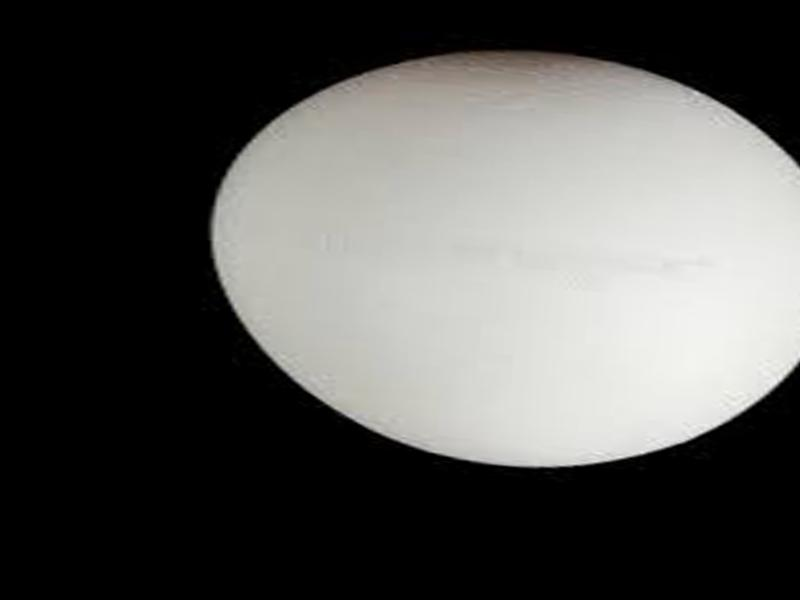Eggs: (195, 23, 800, 491)
